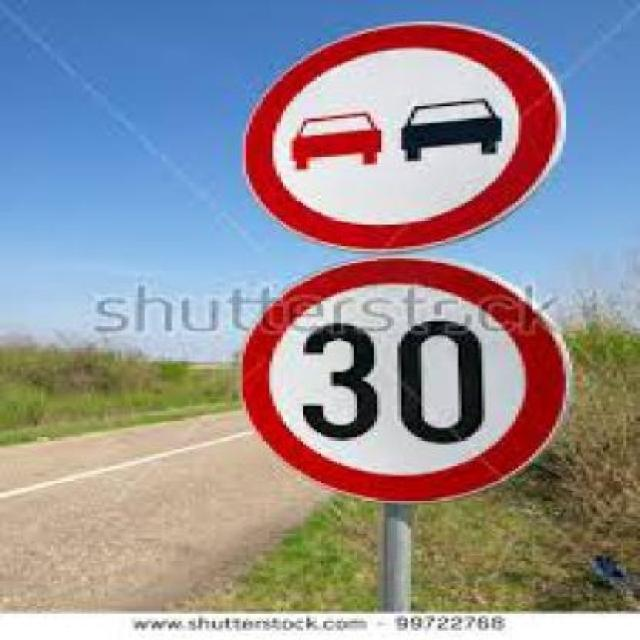forb_speed_over_30: (242, 258, 587, 502)
